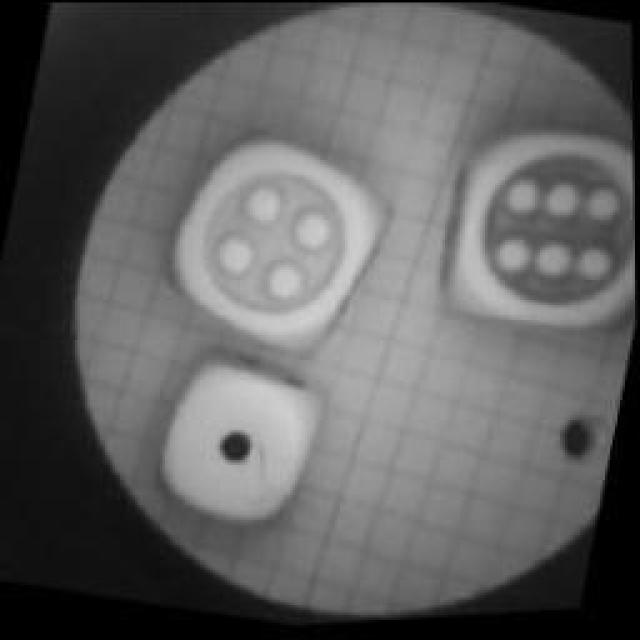dice_1: (140, 338, 335, 544)
dice_4: (141, 106, 409, 376)
dice_6: (406, 98, 636, 380)
